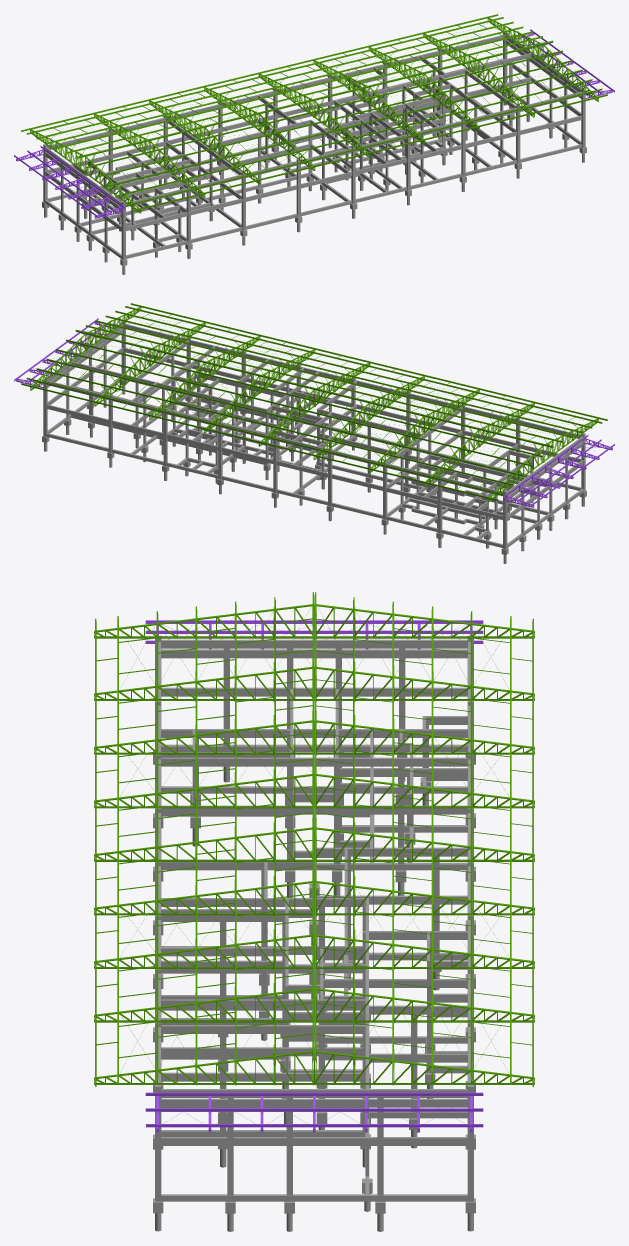
File: MODELO_COMPLETO_RODRIGO.glb
3 renders of one model, top to bottom at view 1: azimuth 30°, elevation 25°; view 2: azimuth 150°, elevation 25°; view 3: azimuth 270°, elevation 25°, orthographic. The views are drawn at different scales.
Parts seen in each view (by area): view 1: MODELO CONCRETO, MODELO METALICA, MARQUISE 006, MARQUISE 007; view 2: MODELO CONCRETO, MODELO METALICA, MARQUISE 006, MARQUISE 007; view 3: MODELO CONCRETO, MODELO METALICA, MARQUISE 007, MARQUISE 006.
Boxes of the visible parts, x1,y1,x2,y2 form: MODELO CONCRETO: (42,32,586,274); MODELO METALICA: (21,14,607,213); MARQUISE 006: (14,146,125,218); MARQUISE 007: (510,29,614,98); MODELO CONCRETO: (42,321,586,563); MODELO METALICA: (21,303,607,502); MARQUISE 006: (503,435,614,507); MARQUISE 007: (14,318,118,387); MODELO CONCRETO: (153,635,475,1231); MODELO METALICA: (94,592,534,1086); MARQUISE 007: (145,1092,483,1132); MARQUISE 006: (145,620,483,649).
Size of the model in its own units: 56.6 by 9.45 by 20.89.
